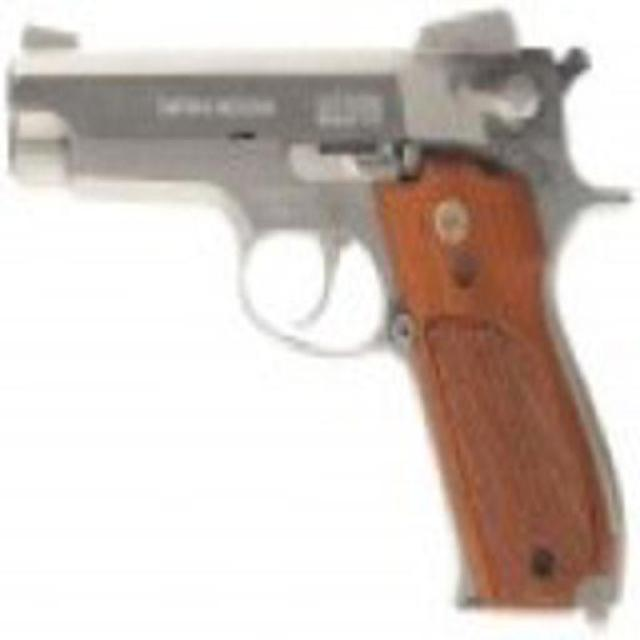pistol: (20, 5, 620, 612)
